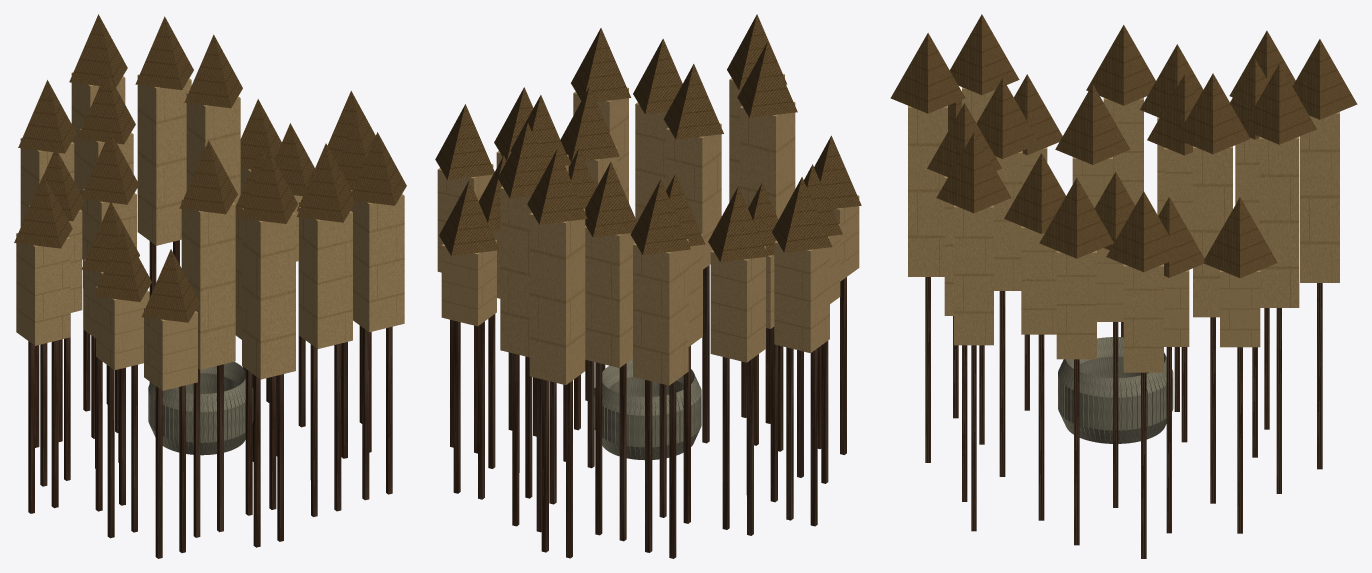
File: stilt_village_01.fbx
The picture shows the model from 3 angles, left to right: view 1: azimuth 30°, elevation 25°; view 2: azimuth 150°, elevation 25°; view 3: azimuth 270°, elevation 25°; orthographic projection. The views are drawn at different scales.
Visible parts, largest first — view 1: stilt_village_01_LOD0; view 2: stilt_village_01_LOD0; view 3: stilt_village_01_LOD0.
Boxes of the visible parts, box(x1,y1,x2,y2) form: stilt_village_01_LOD0: box(14, 14, 406, 558); stilt_village_01_LOD0: box(435, 14, 861, 558); stilt_village_01_LOD0: box(890, 14, 1357, 558).
Size of what is drawn, in the model's own units: 1 by 1 by 1.
